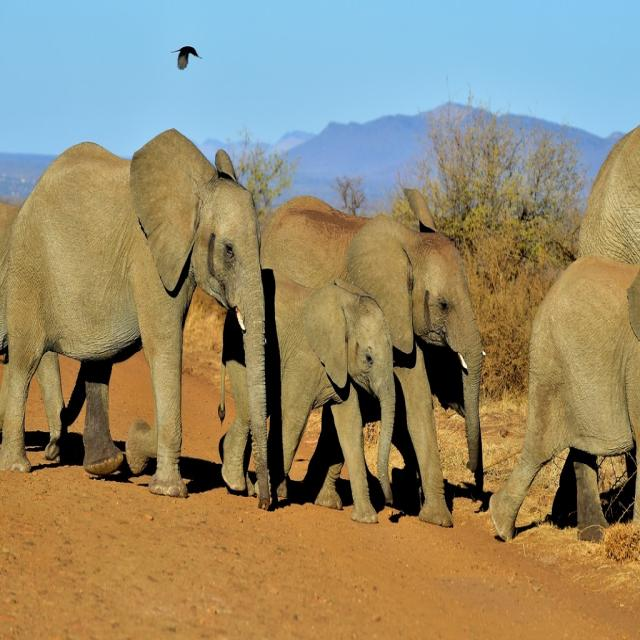elephant: (0, 134, 268, 498), (266, 203, 483, 532), (486, 248, 640, 561), (220, 279, 400, 531), (574, 120, 640, 279)
